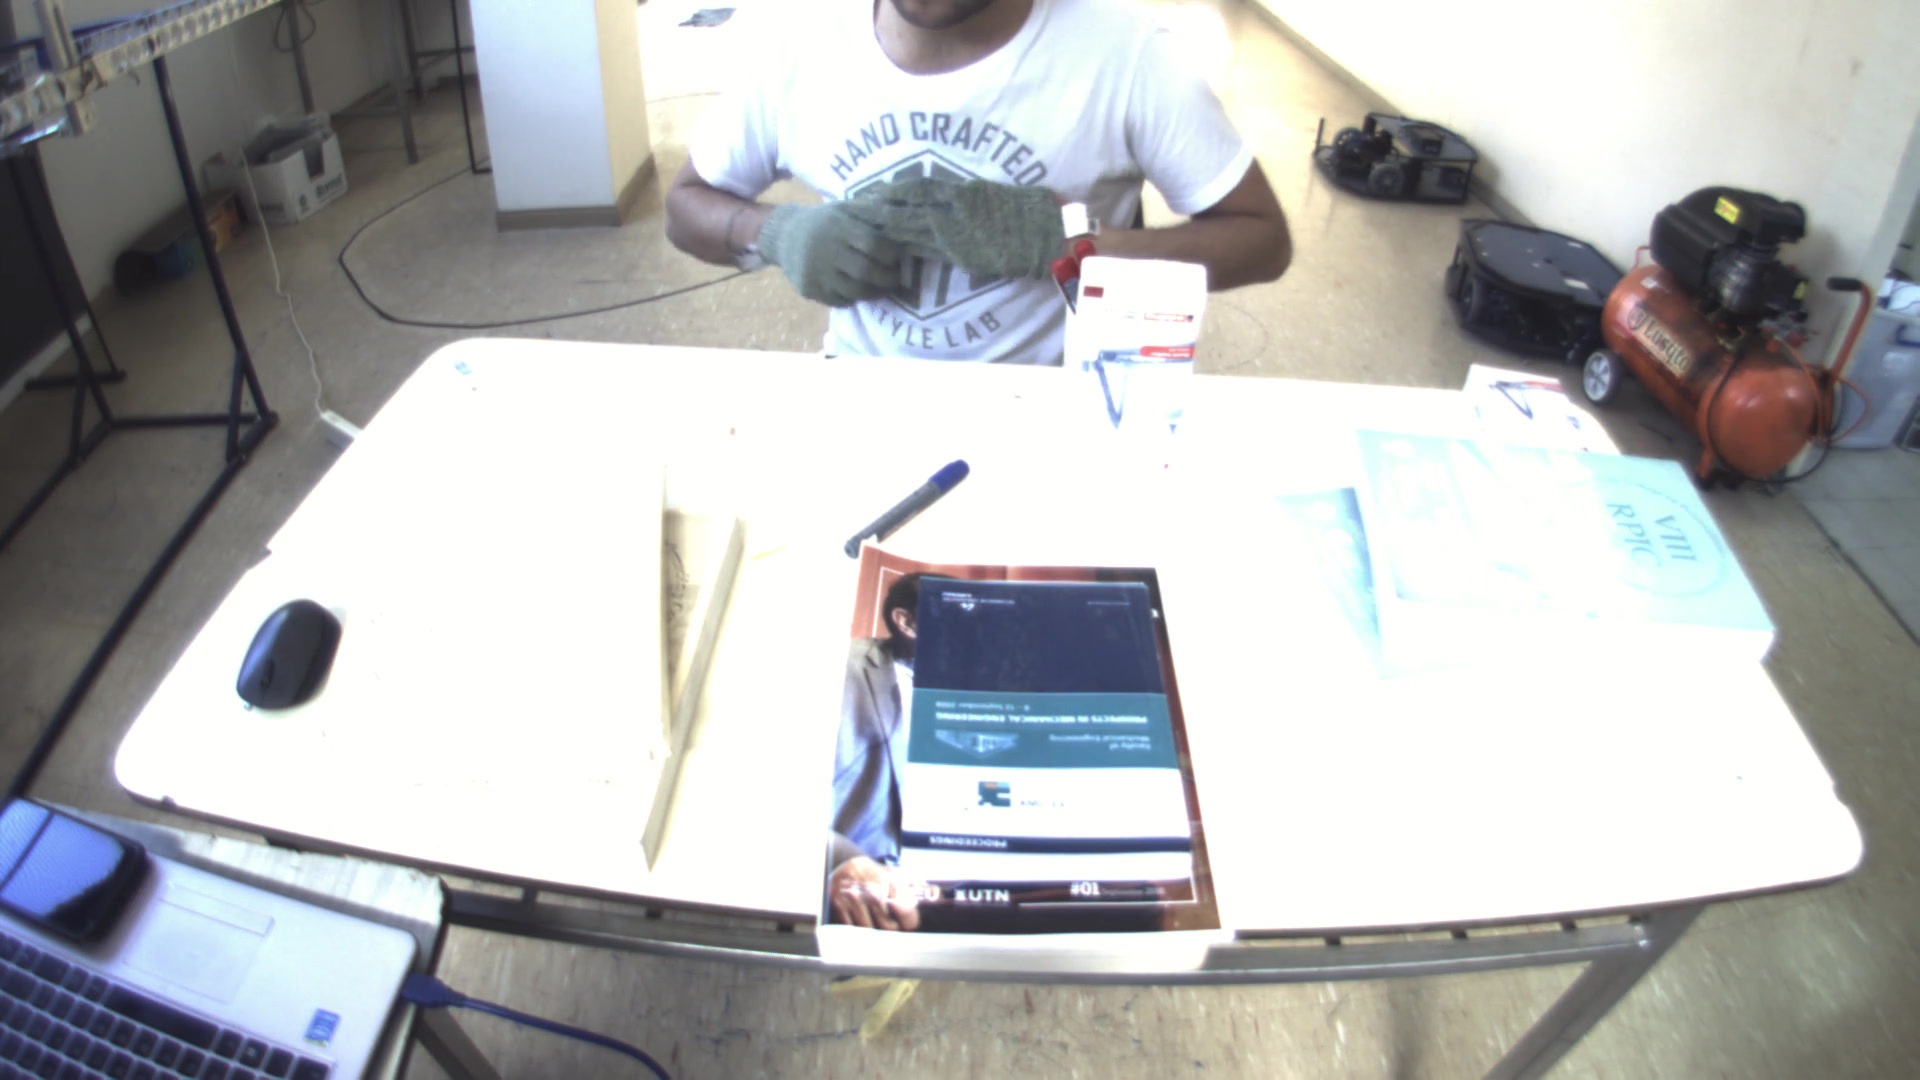hand: (861, 169, 1088, 287), (753, 202, 903, 305)
